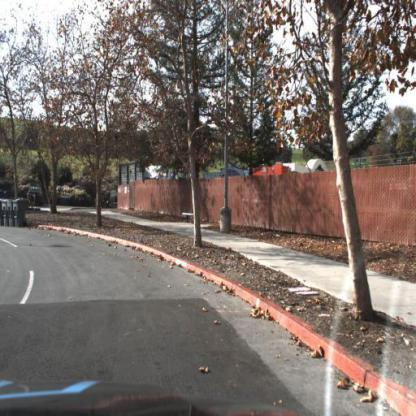car: (26, 184, 49, 206)
